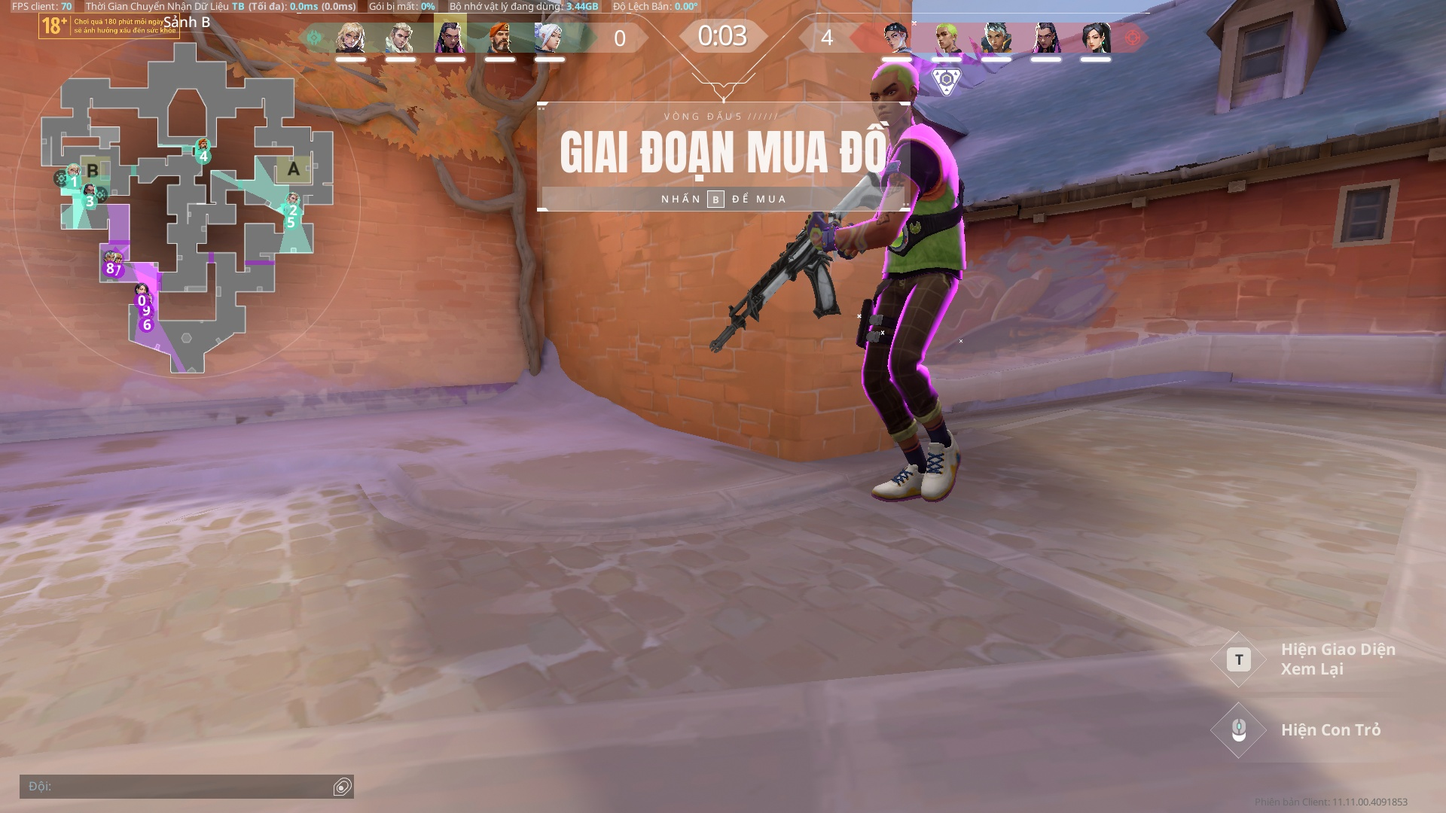body: (879, 125, 969, 254)
head: (868, 64, 919, 123)
